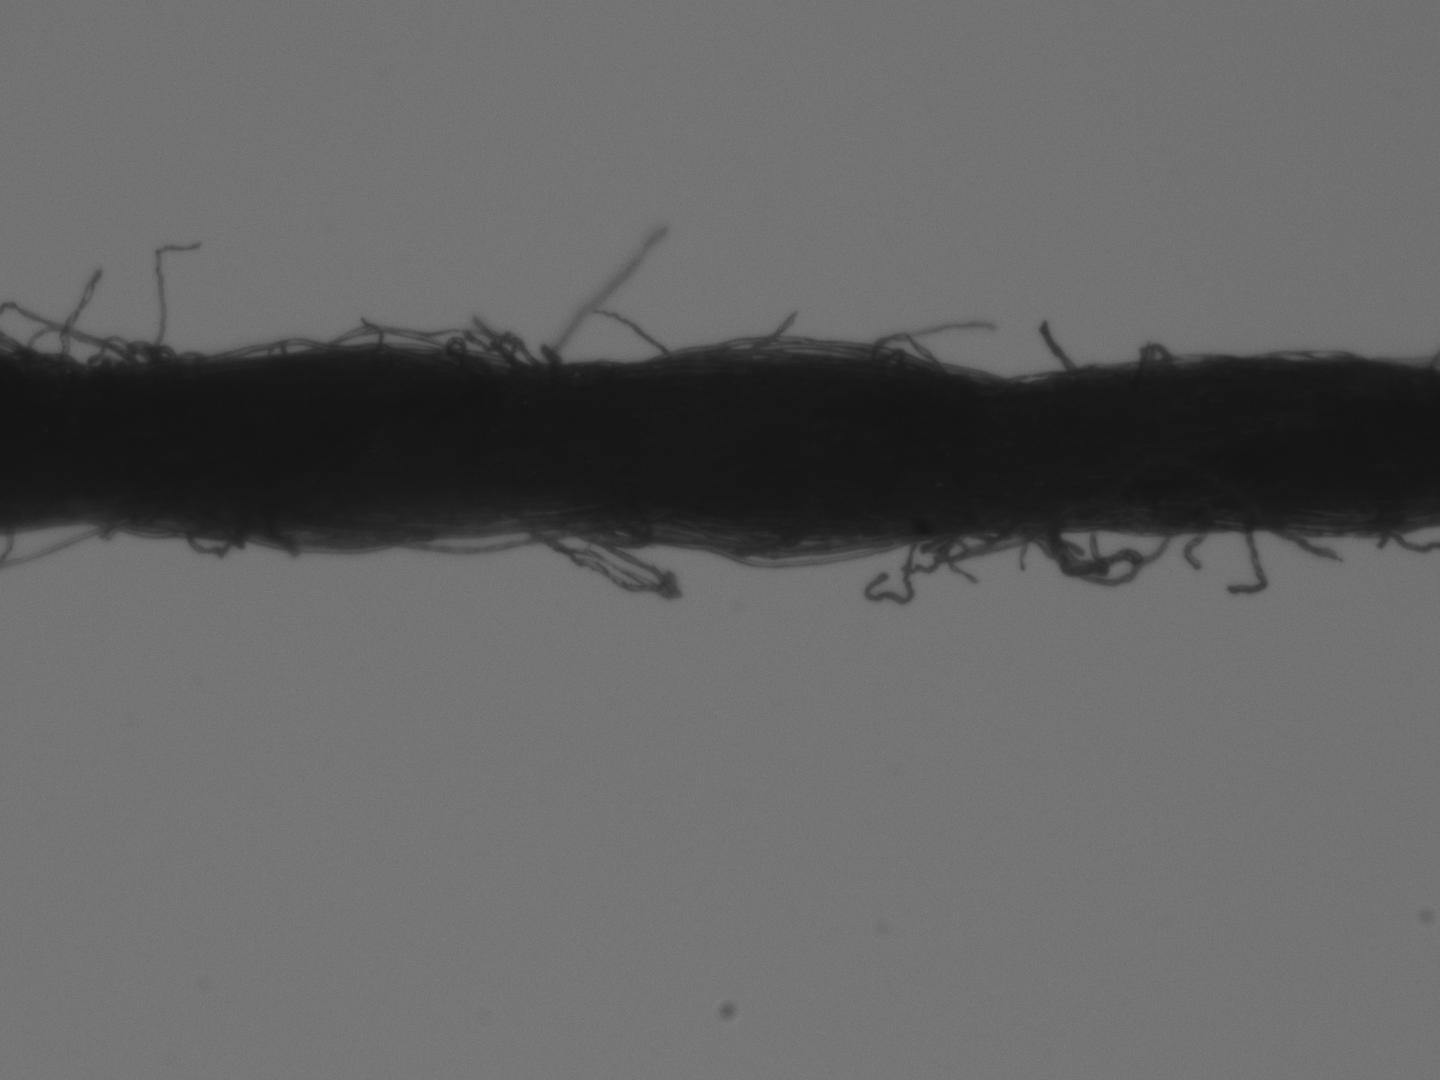loop_fiber: (519, 517, 669, 594), (1030, 526, 1143, 585), (395, 523, 591, 555), (714, 541, 880, 572), (331, 321, 452, 352), (203, 339, 311, 366), (869, 332, 938, 370), (183, 529, 239, 556), (95, 331, 132, 368), (1134, 339, 1170, 369), (133, 343, 172, 365)
protruding_fiber: (542, 220, 668, 364), (152, 238, 209, 368), (863, 537, 921, 607), (61, 263, 105, 355), (590, 305, 659, 356), (1226, 530, 1265, 598), (1272, 528, 1340, 567), (1035, 319, 1074, 371)
